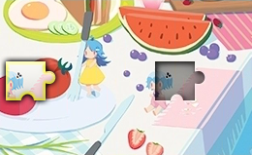gap: (155, 61, 205, 101)
